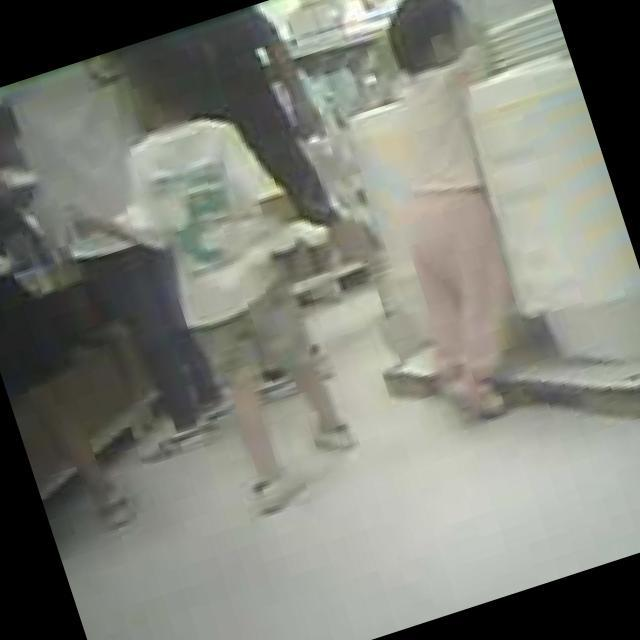person: (30, 56, 377, 550), (309, 0, 596, 434), (98, 0, 377, 354), (10, 52, 238, 476), (0, 88, 149, 540)
